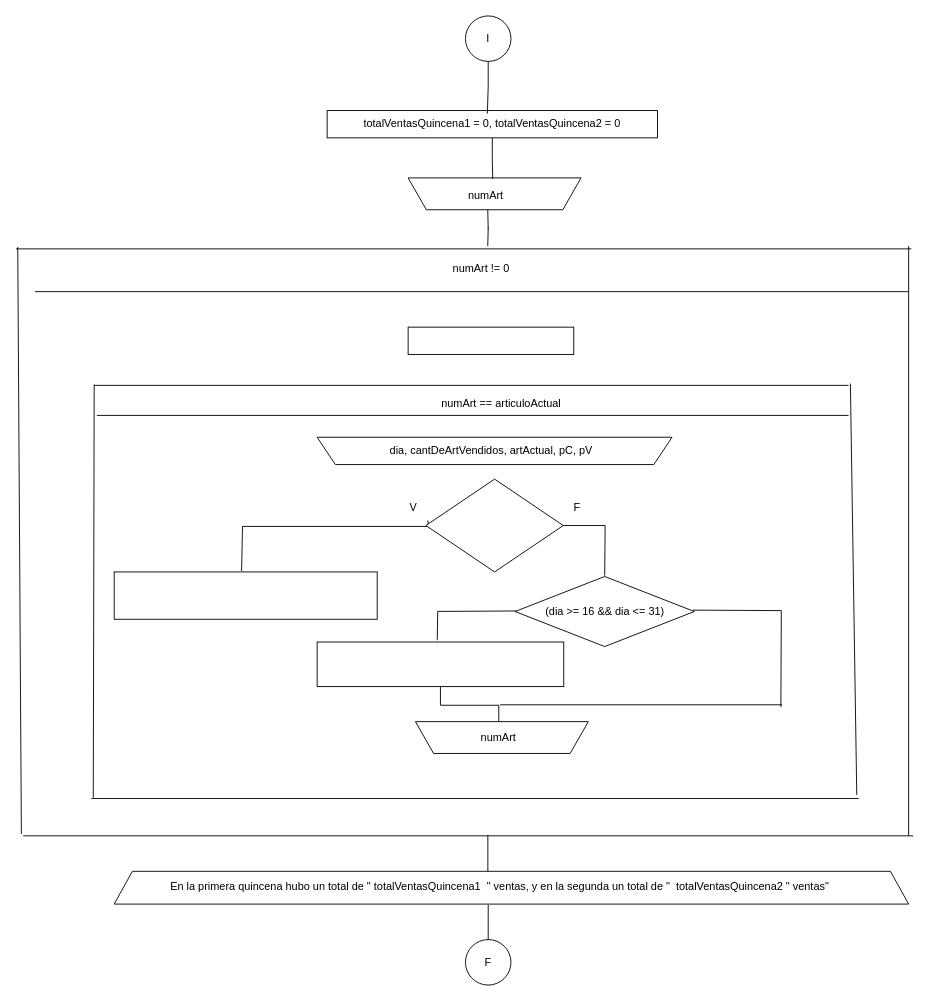
Image size: 930x1001. Some labels were removed from this diagram. The box of each missing label's shape, as (x1, y1, x2, y2) in pixels:
(dia >= 1 && dia <= 15): (425, 478, 563, 572)
numArt = artActual: (407, 326, 574, 354)
totalVentasQuincena1 = totalVentasQuincena1 + cantDeArticulosVendidos;: (113, 571, 377, 619)
totalVentasQuincena2 = totalVentasQuincena2 + cantDeArticulosVendidos;: (316, 641, 564, 687)
